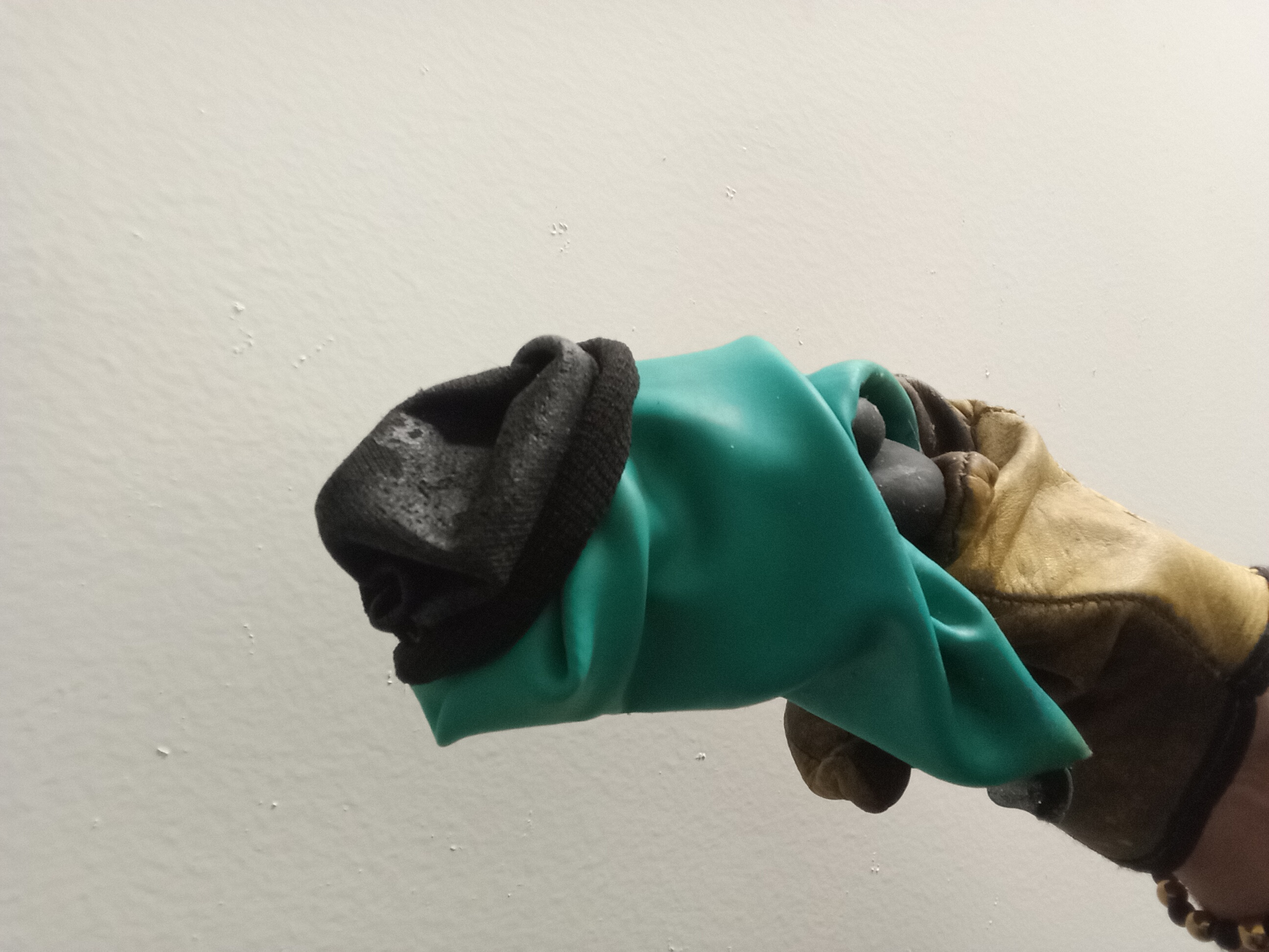Ordinario: (317, 336, 1091, 789)
